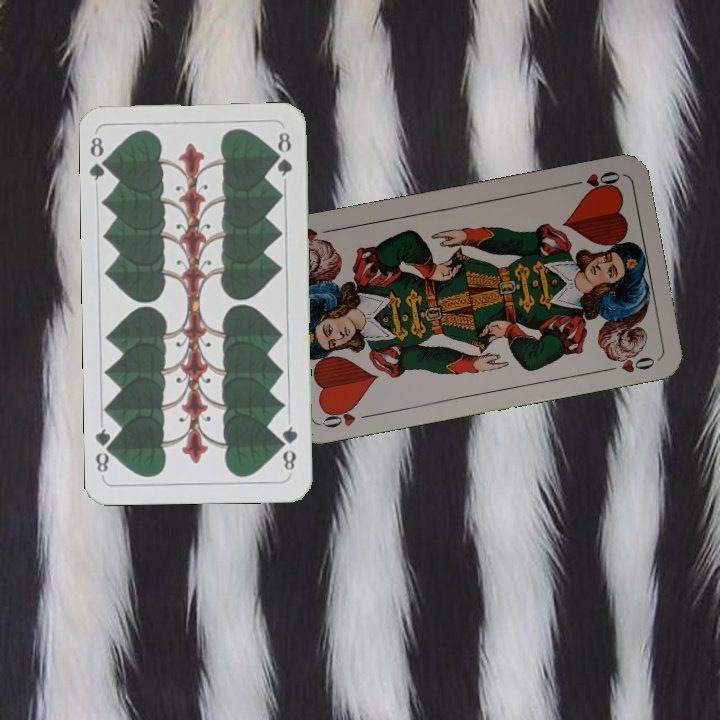G8: (86, 133, 113, 183), (277, 422, 300, 473)
HO: (314, 401, 373, 431), (563, 167, 623, 196)
